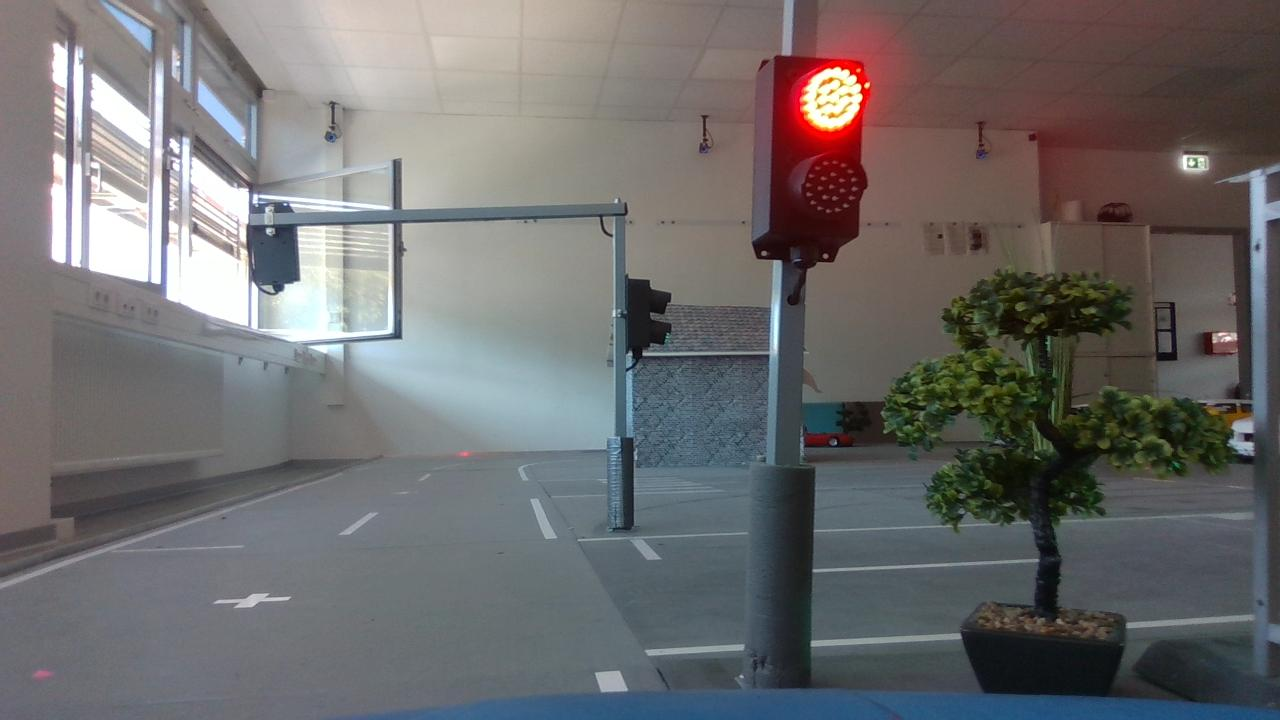traffic_light_red: (730, 36, 893, 293)
